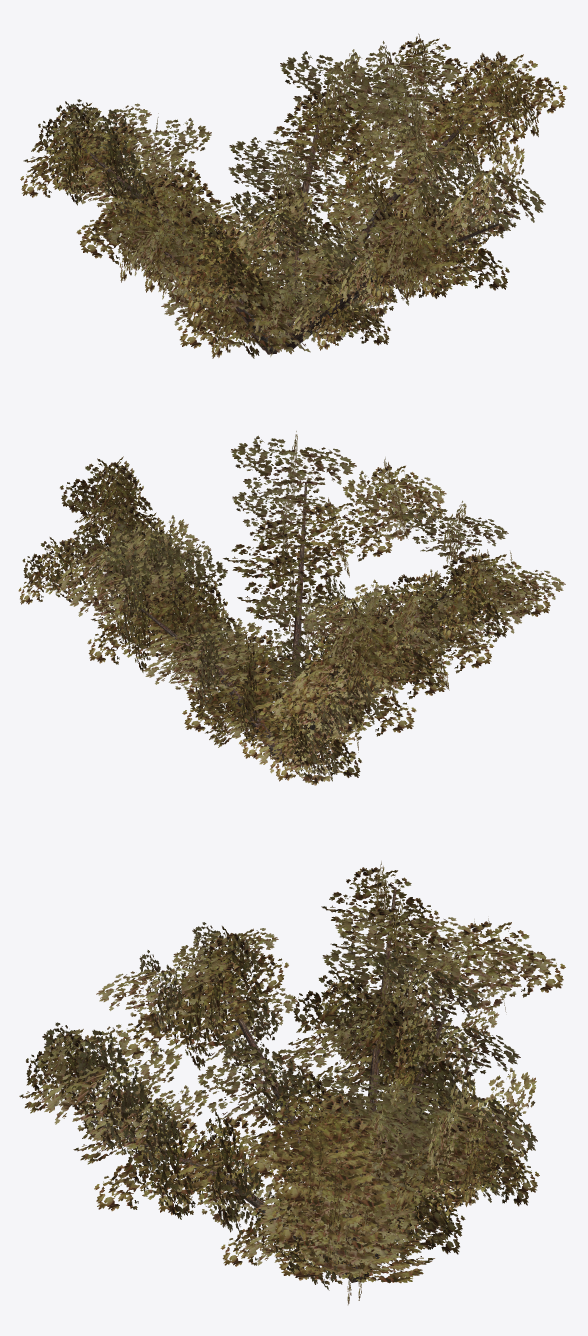
File: bush_3d_02_golden_beige_lod1.glb
3 views of the same model, one above another, from view 1: azimuth 30°, elevation 25°; view 2: azimuth 150°, elevation 25°; view 3: azimuth 270°, elevation 25° (orthographic). The views are drawn at different scales.
Parts seen in each view (by area): view 1: foliage_cards, wood_geometry; view 2: foliage_cards, wood_geometry; view 3: foliage_cards, wood_geometry.
Boxes of the visible parts, x1,y1,x2,y2 form: foliage_cards: [20, 33, 567, 358]; wood_geometry: [76, 95, 498, 354]; foliage_cards: [18, 431, 565, 785]; wood_geometry: [108, 482, 518, 765]; foliage_cards: [19, 861, 565, 1304]; wood_geometry: [87, 887, 487, 1282].
Size of the model in its own units: 3.06 by 1.47 by 2.46.
Materials: 2 (2 with a texture image).
